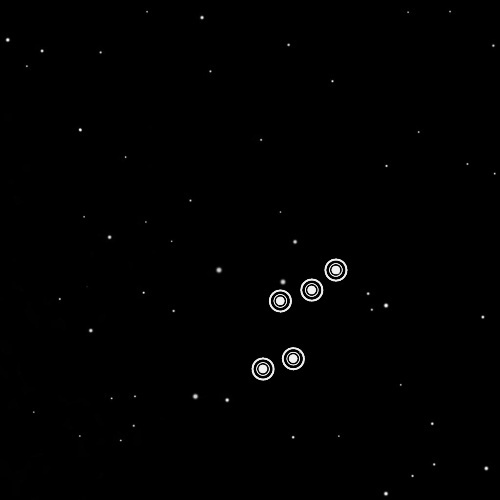lyra: (243, 241, 358, 395)
